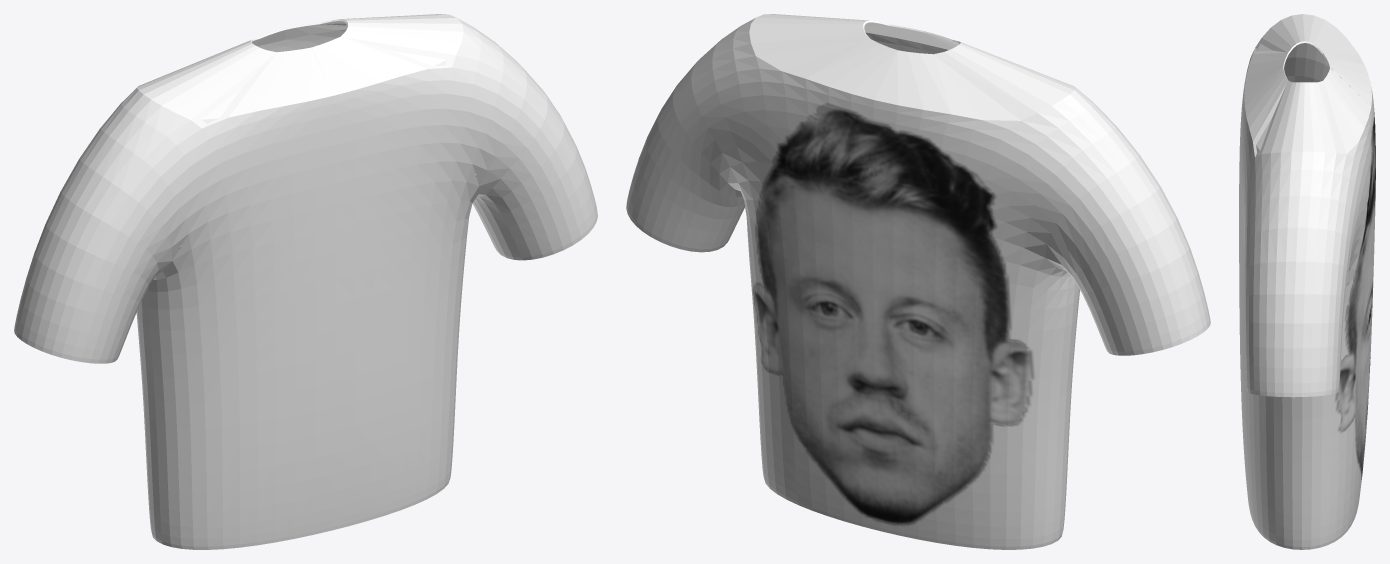
File: macklemores.obj
The picture shows the model from 3 angles, left to right: view 1: azimuth 30°, elevation 25°; view 2: azimuth 150°, elevation 25°; view 3: azimuth 270°, elevation 25°; orthographic projection. The views are drawn at different scales.
Parts seen in each view (by area): view 1: Cube_Cube.001; view 2: Cube_Cube.001; view 3: Cube_Cube.001.
Boxes of the visible parts, <box> form: Cube_Cube.001: <box>14,14,597,549</box>; Cube_Cube.001: <box>626,14,1210,549</box>; Cube_Cube.001: <box>1239,14,1375,549</box>.
Size of the model in its own units: 2.52 by 2.01 by 0.5839.
1 material, 1 textured.
